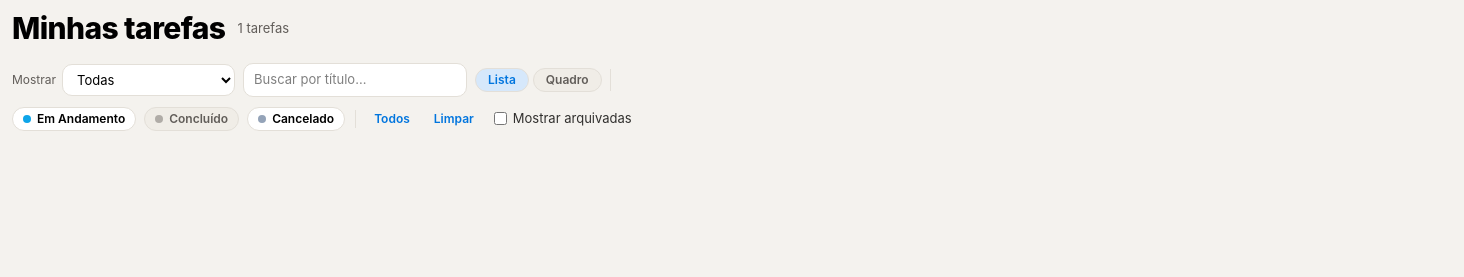
minhas-tarefas -- o kanban le colunas da API (fatia 4c-2) › as colunas do kanban tem o NOME que veio da API
Click the button "Quadro".
click(567, 80)  # box [533,68,602,92]
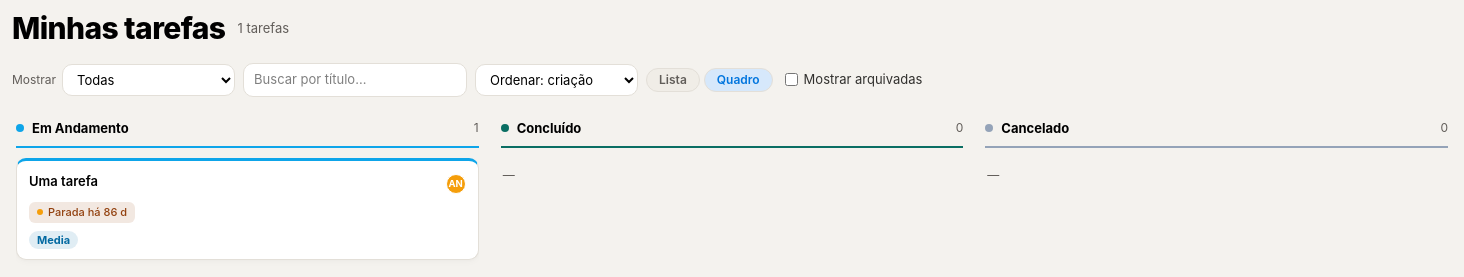
expect the text "Concluído" is shown: met, box [517,118,581,138]
expect the text "Em Andamento" is shown once: met, box [32,118,129,138]
